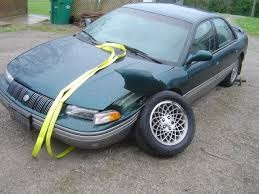Broken-glass: (90, 106, 121, 126)
Dent: (112, 71, 165, 101)
